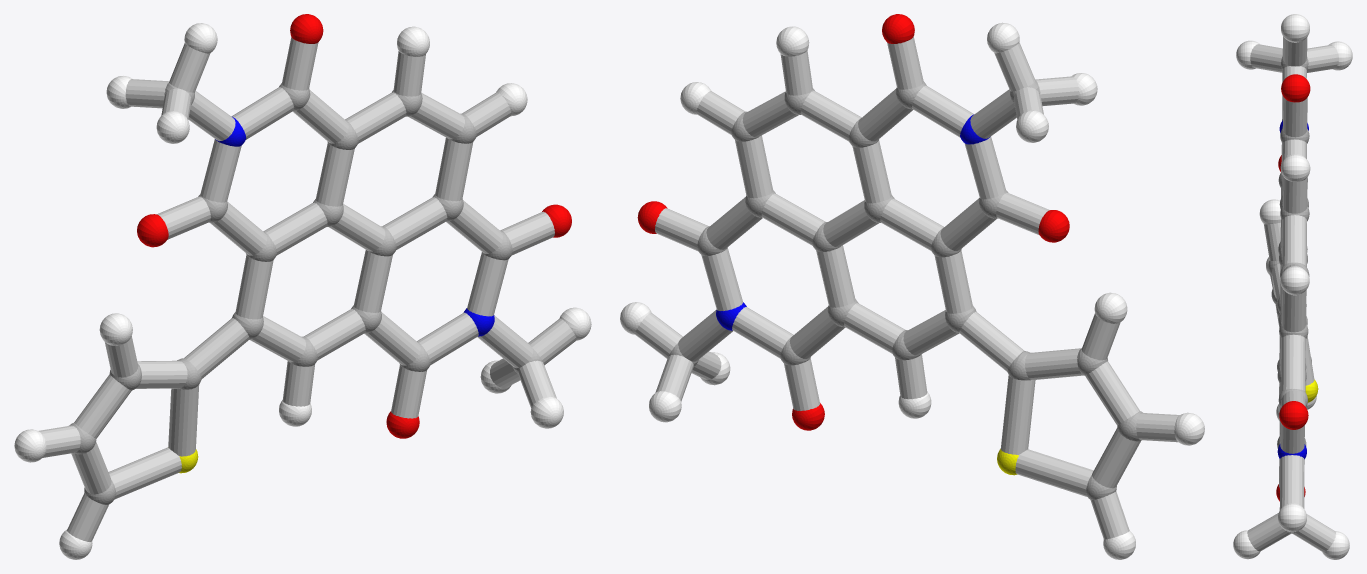
The model's file is color.glb.
3 renders of one model, left to right at view 1: azimuth 30°, elevation 25°; view 2: azimuth 150°, elevation 25°; view 3: azimuth 270°, elevation 25°, orthographic. The views are drawn at different scales.
Parts seen in each view (by area): view 1: grp14119, grp7241, grp1, grp12309, grp11585; view 2: grp14119, grp7241, grp1, grp12309, grp11585; view 3: grp14119, grp7241, grp1, grp12309, grp11585, grp13757.
Boxes of the visible parts, x1=… form: grp14119: x1=39, y1=37, x2=576, y2=541; grp7241: x1=14, y1=23, x2=591, y2=559; grp1: x1=69, y1=82, x2=542, y2=504; grp12309: x1=137, y1=14, x2=571, y2=438; grp11585: x1=215, y1=116, x2=494, y2=336; grp14119: x1=635, y1=36, x2=1179, y2=539; grp7241: x1=620, y1=22, x2=1204, y2=559; grp1: x1=669, y1=81, x2=1142, y2=500; grp12309: x1=637, y1=14, x2=1069, y2=430; grp11585: x1=716, y1=114, x2=989, y2=330; grp14119: x1=1247, y1=36, x2=1338, y2=551; grp7241: x1=1233, y1=14, x2=1352, y2=559; grp1: x1=1268, y1=56, x2=1311, y2=533; grp12309: x1=1276, y1=74, x2=1310, y2=501; grp11585: x1=1277, y1=120, x2=1308, y2=459; grp13757: x1=1305, y1=379, x2=1318, y2=402.
Size of the model in its own units: 12.06 by 10.08 by 2.45.
